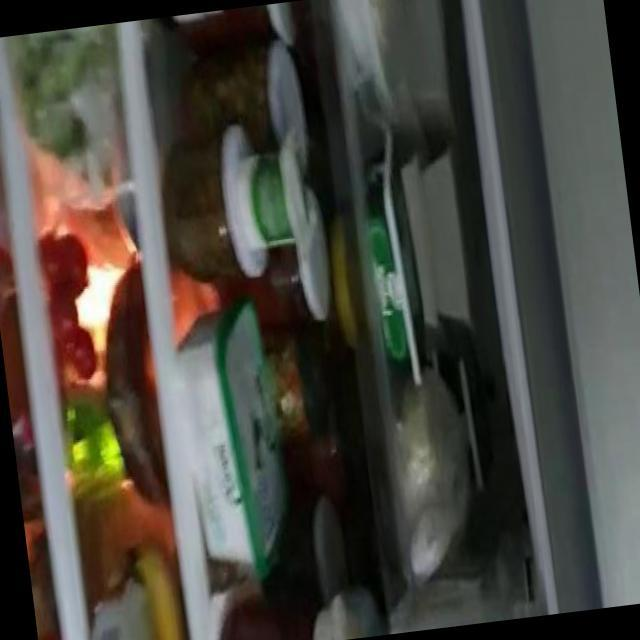Lechuga/Endivia: (10, 28, 94, 172)
Plátano: (126, 538, 185, 640)
Queso: (179, 308, 292, 572)
Tomate: (212, 583, 333, 640)
Yogur: (239, 142, 311, 256)
cream: (362, 155, 430, 386)
tomato paste: (38, 234, 96, 380)
